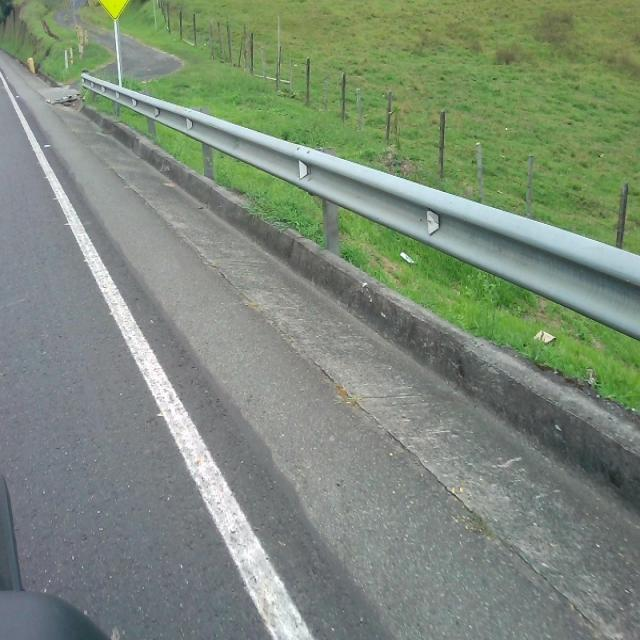DITCH: (1, 48, 638, 639), (53, 49, 638, 638)
